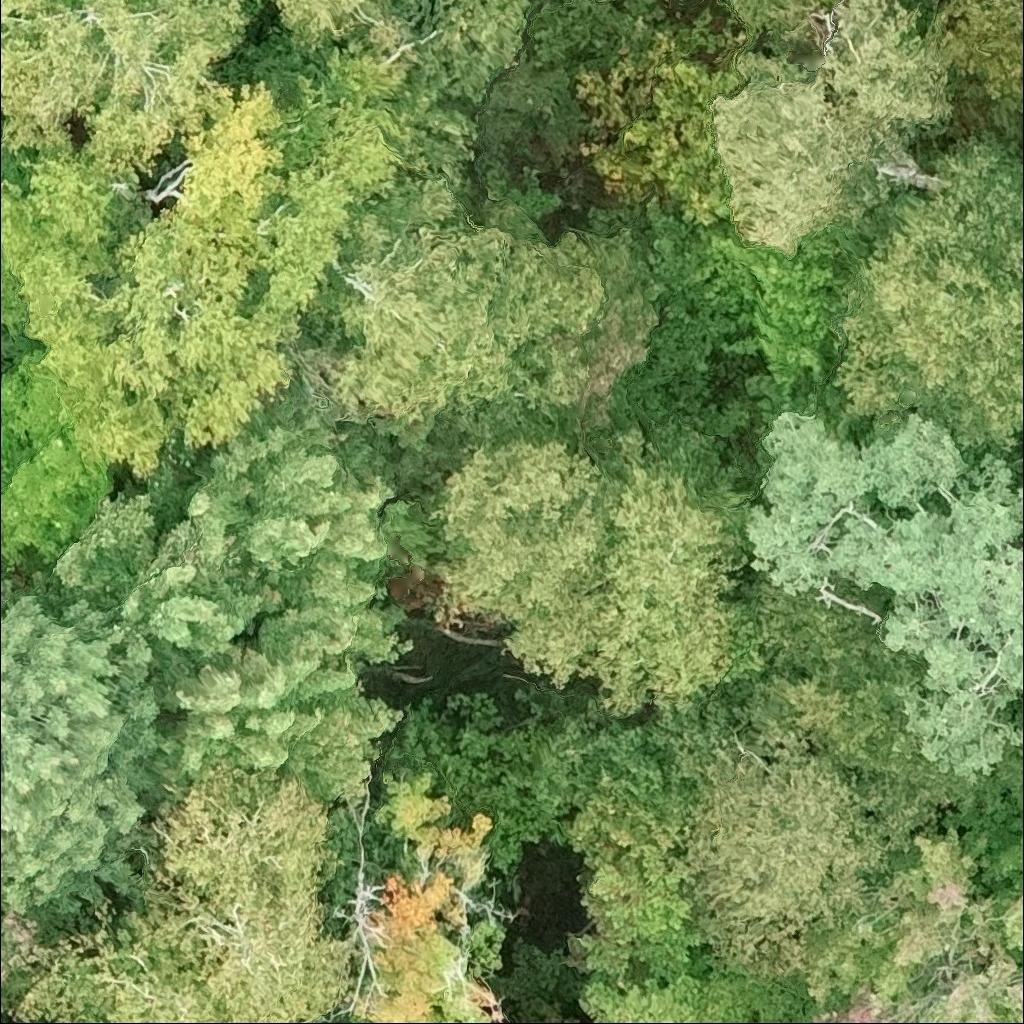crown: (50, 410, 418, 807), (655, 570, 954, 979), (743, 410, 1023, 785), (829, 128, 1023, 454), (0, 566, 174, 924), (136, 762, 354, 1023), (583, 420, 768, 716), (426, 433, 613, 696), (800, 822, 1023, 1023), (334, 769, 510, 1023), (9, 903, 223, 1023), (562, 855, 704, 990), (0, 894, 99, 1019), (578, 971, 703, 1023), (981, 825, 1023, 962), (1023, 306, 1023, 307)
